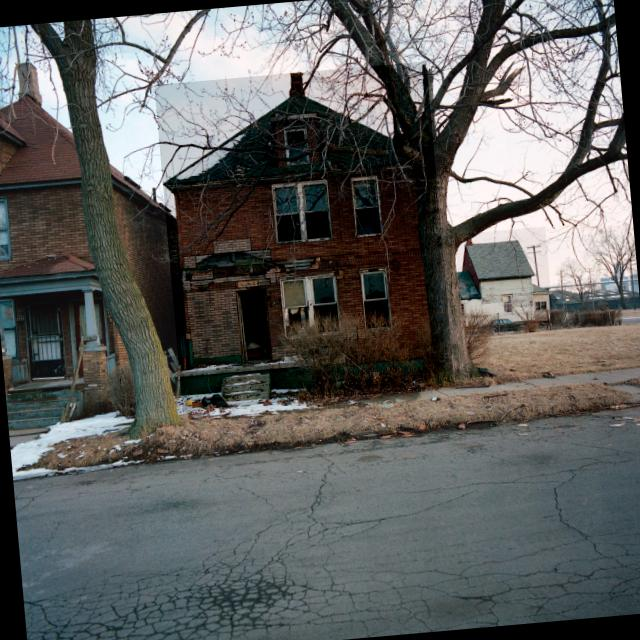House: (153, 61, 454, 410), (0, 49, 195, 430), (454, 227, 553, 331)
